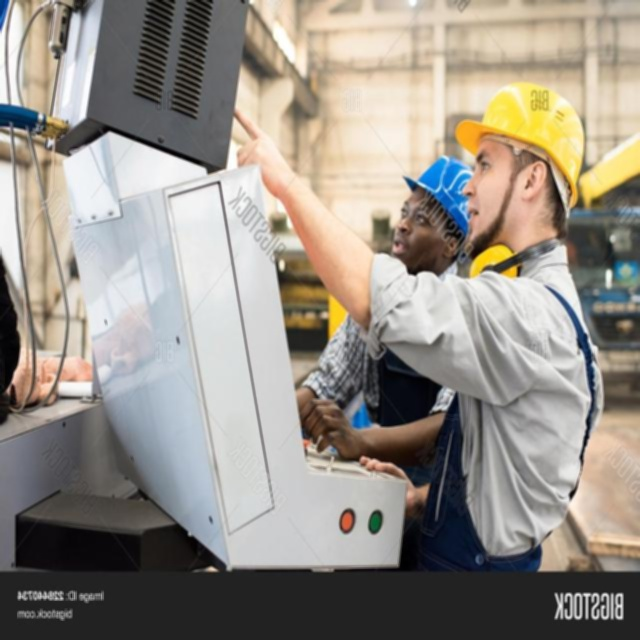Con_Casco: (455, 86, 584, 250)
